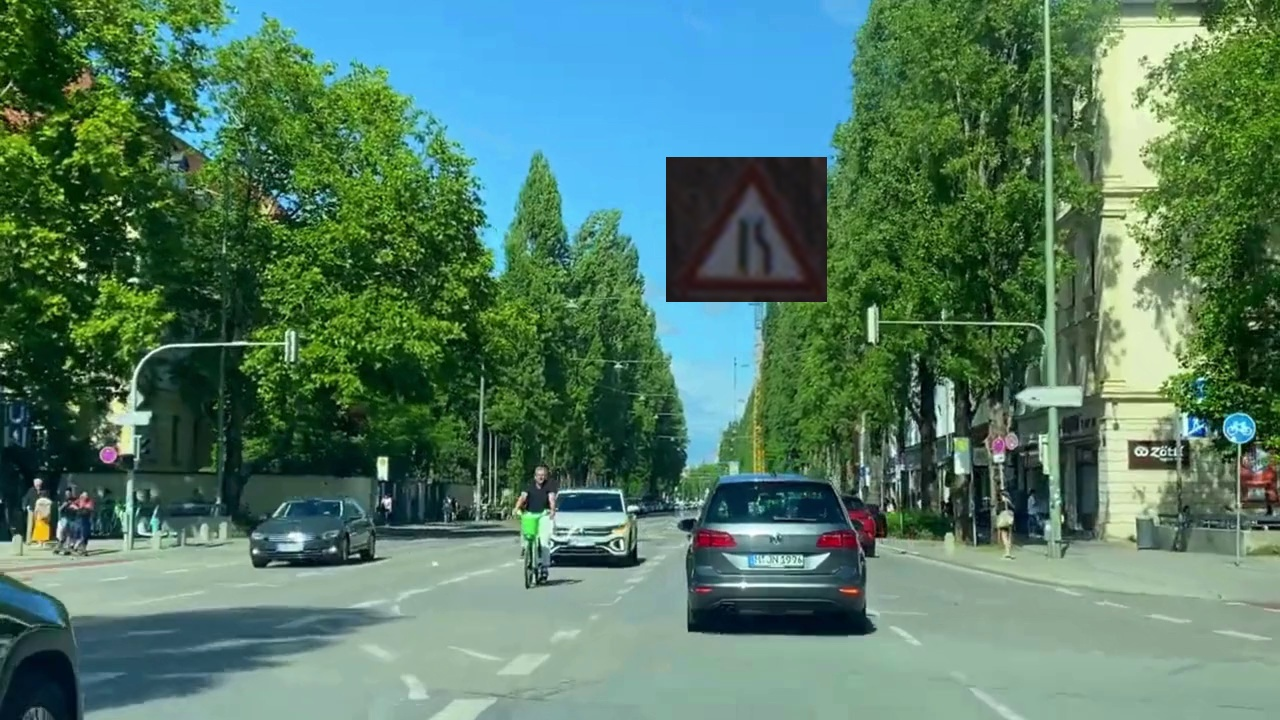Road narrows: (666, 157, 827, 302)
